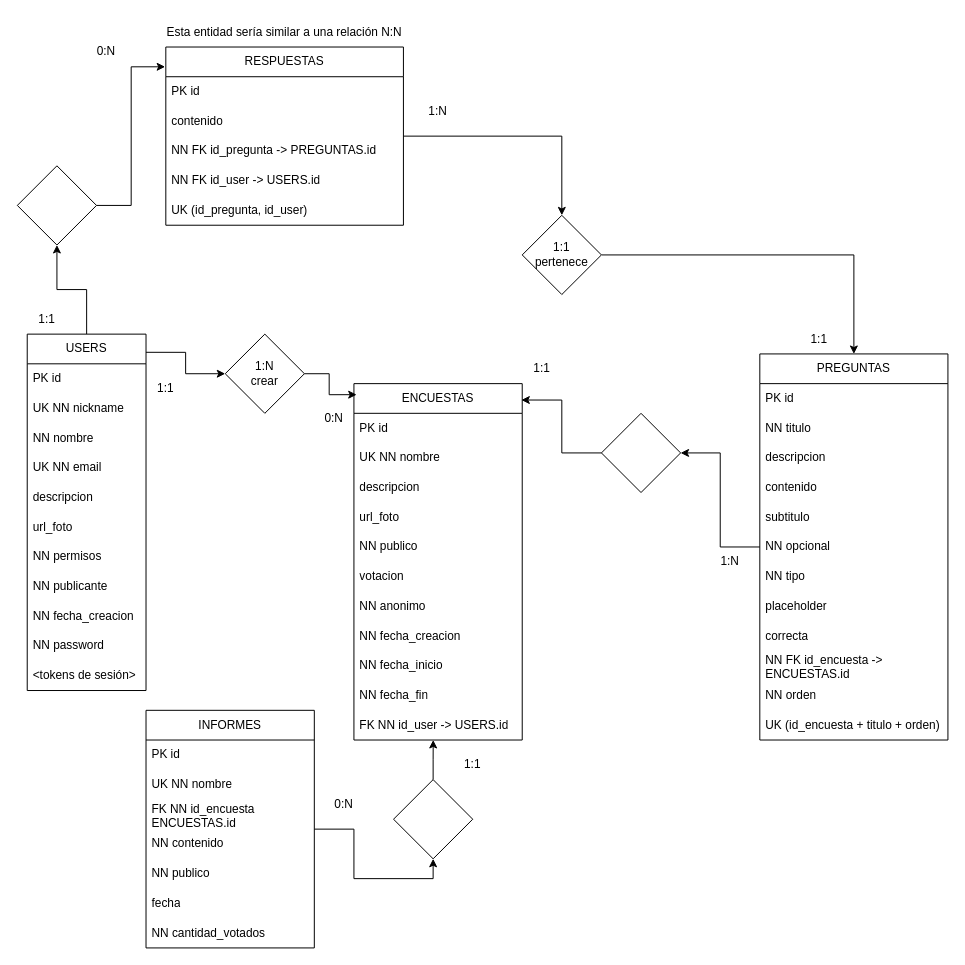
Image size: 965x965. Some labels were removed from this diagram. The centre of each missing label's shape, as x and y in pixels:
0:N responde: [56,205]
1:N pertenece: [640,452]
1:N relativo a: [433,819]
